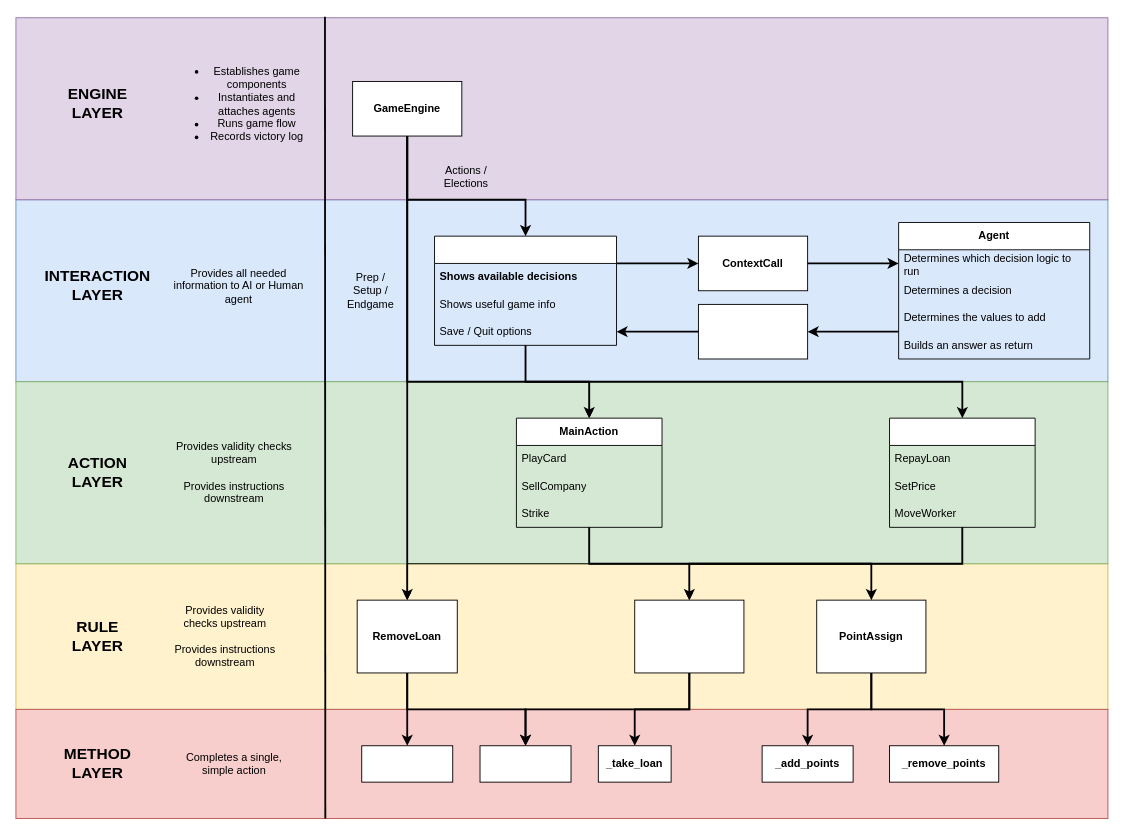
Some shapes in this 1124 by 835 pixel diagram are drawn without their labels. The box of each missing label's shape, as (x1, y1, x2, y2) in pixels:
_add_money: (479, 745, 571, 782)
_remove_loan: (361, 745, 453, 782)
AgentAnswer: (698, 303, 808, 359)
DecisionContext: (434, 235, 617, 345)
FreeAction: (889, 417, 1035, 527)
MoneyTransfer: (634, 599, 744, 673)
